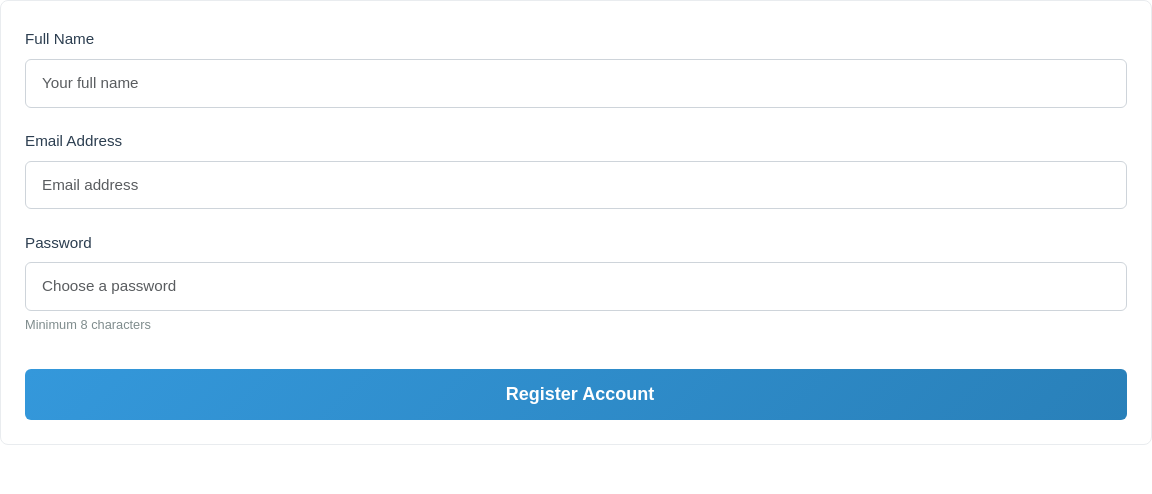
Scenario: UserRegistration › shows error message when API throws error
Type "John Doe" into the field labelled "Full Name" at {"x": 576, "y": 83}, box [25,59,1127,108]
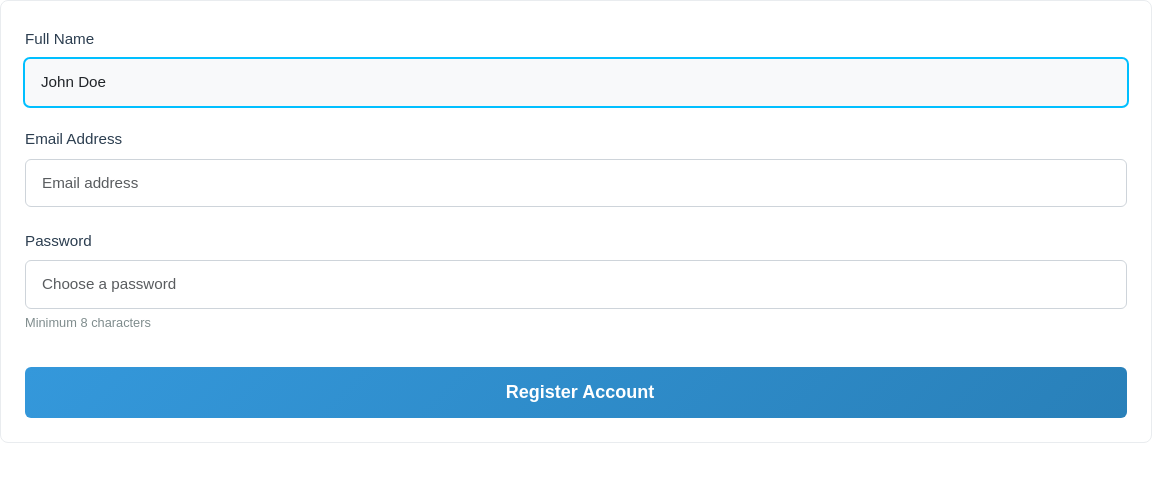
Type "john@example.com" into the field labelled "Email Address" at {"x": 576, "y": 183}, box [25,159,1127,207]
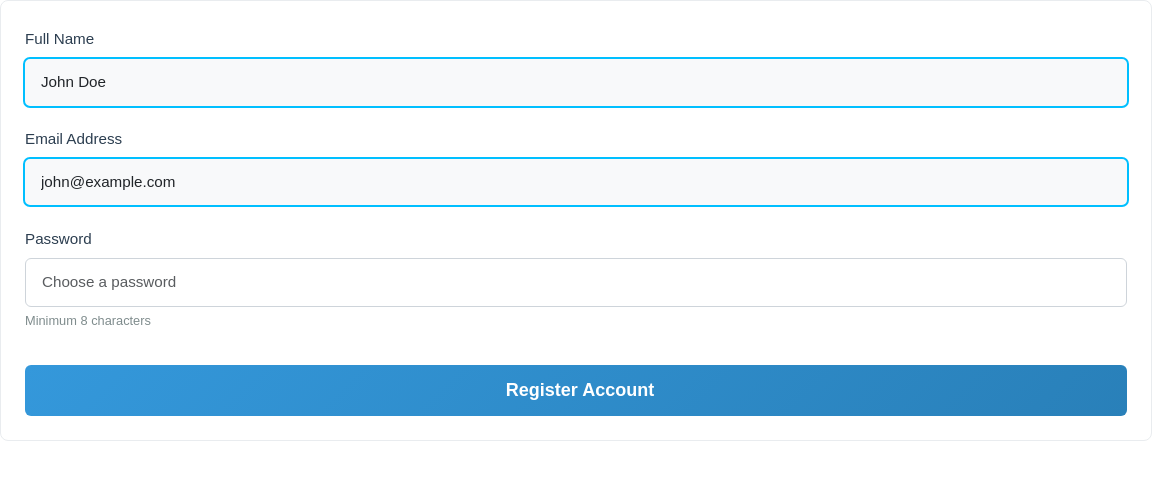
Type "password123" into the password field labelled "Password" at {"x": 576, "y": 283}, box [25,258,1127,307]
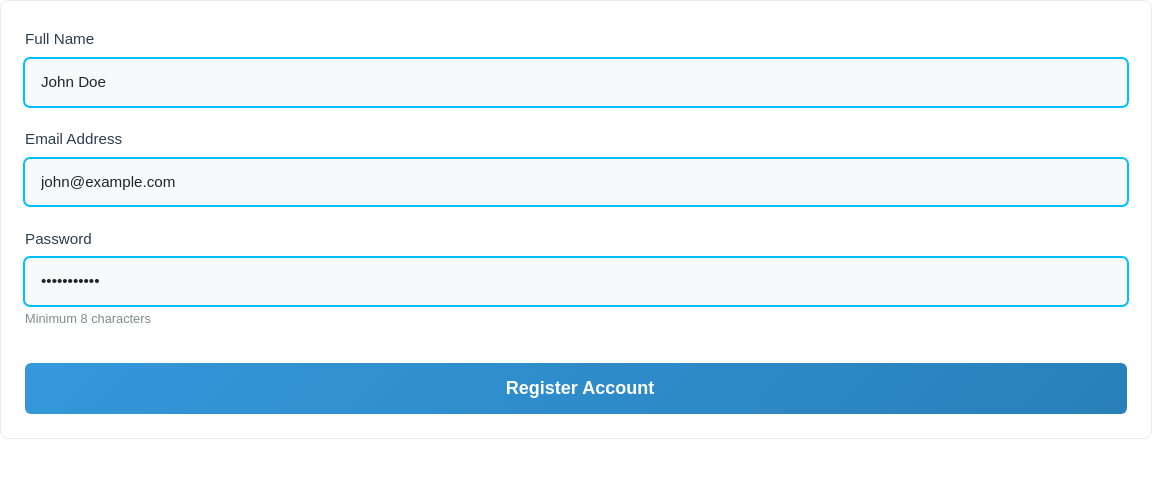
Click the button "Register Account" at {"x": 576, "y": 389}, box [25,364,1127,414]
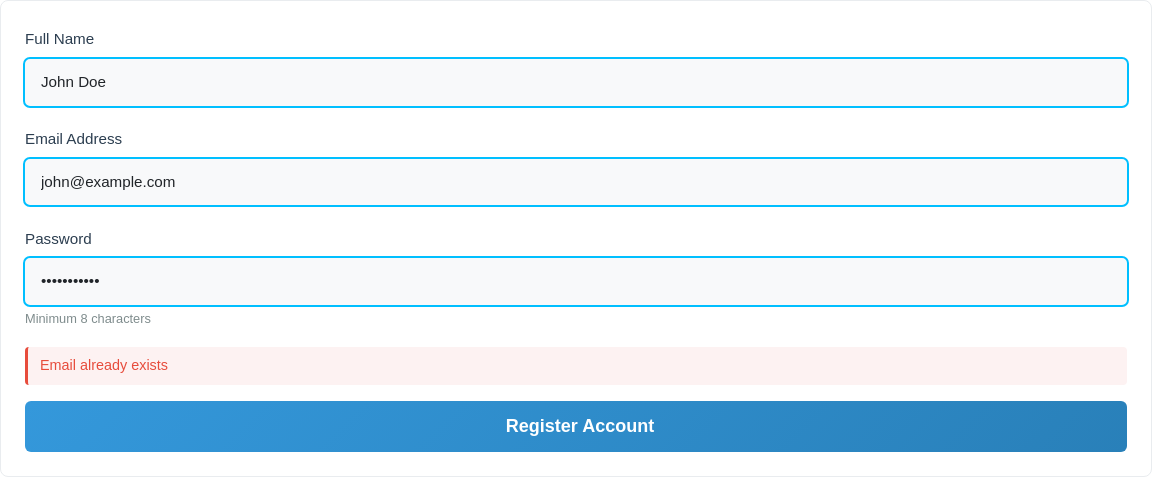
Result: the text "Email already exists" is shown at [25,348,1127,385]
